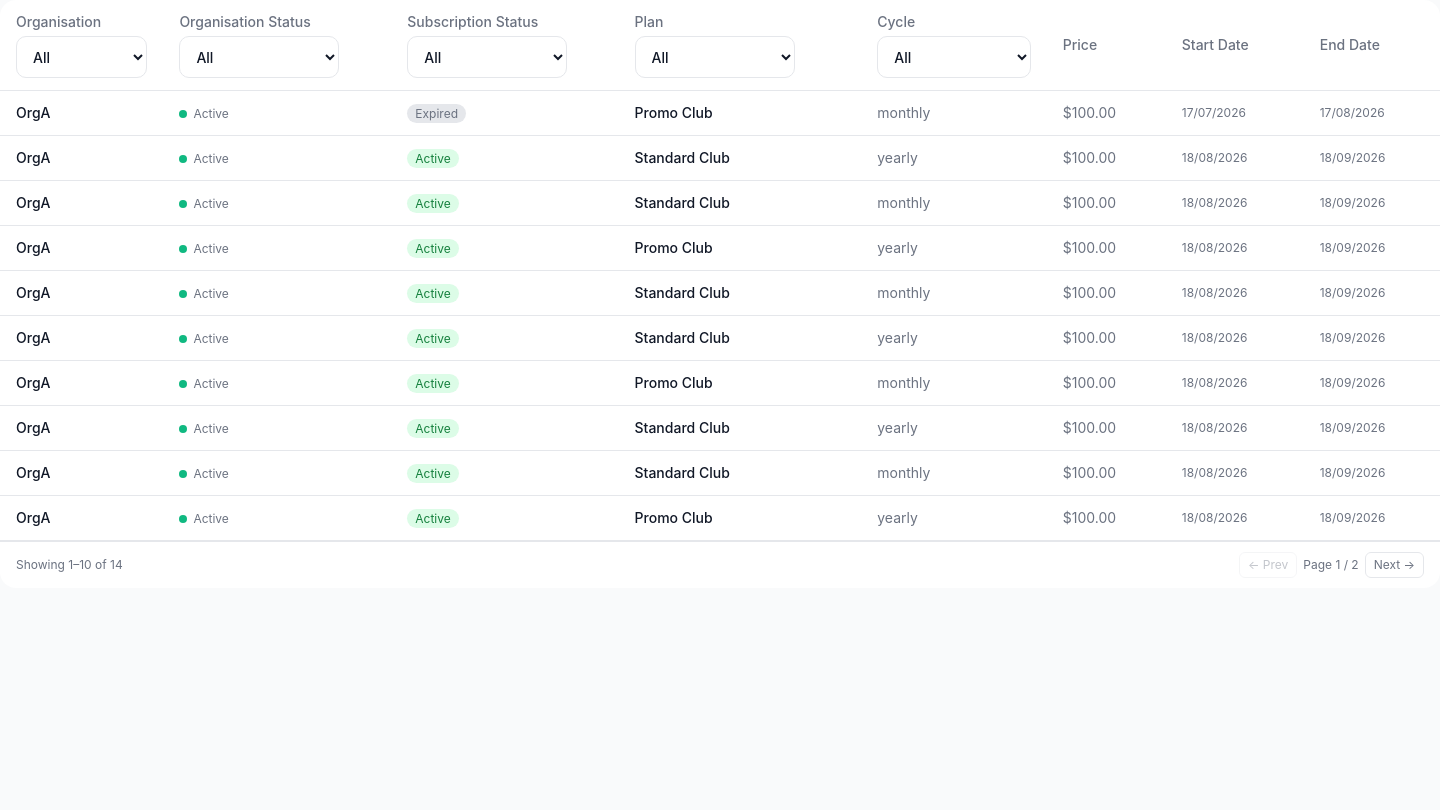
View Assignments — column filters & pagination › resets to page 1 whenever any filter changes
The image size is (1440, 810).
Click the button with aria-label "Next page" at (1394, 565), box [1365,552,1424,578]
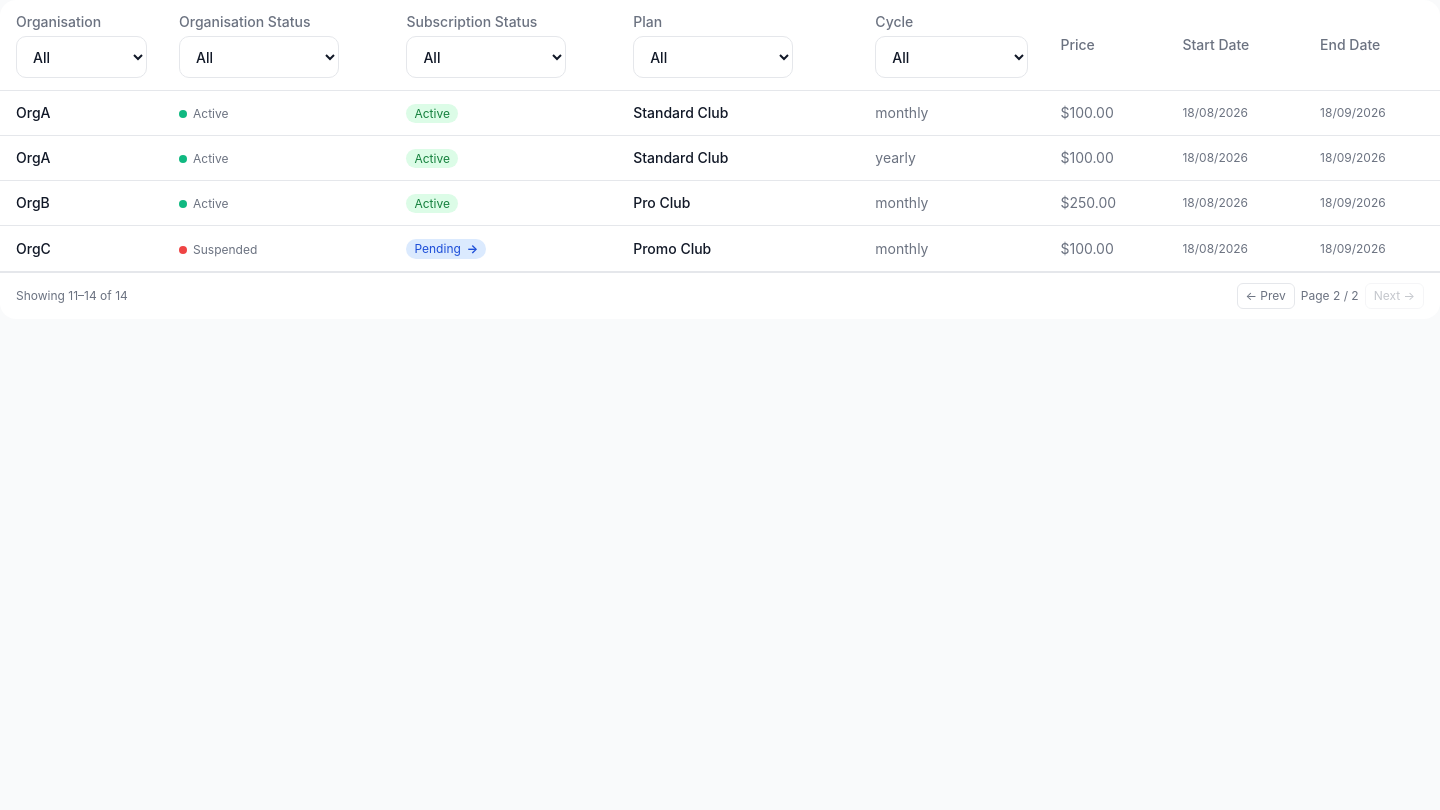
Check: the text "Page 2 / 2" is shown, box [1301,288,1359,304]
Select "OrgA" in the dropdown named "Filter by Organisation" at (82, 57), box [16,36,147,78]
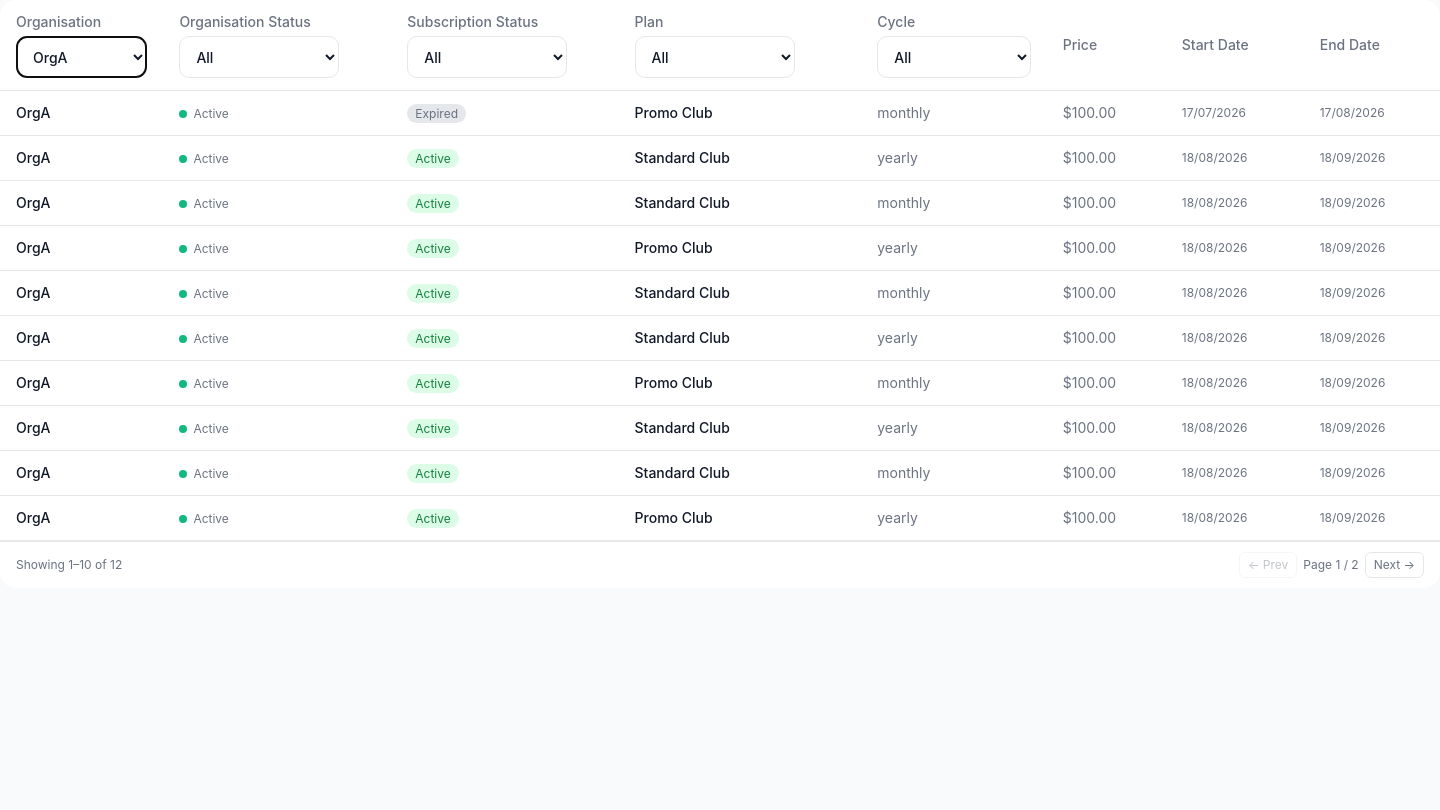
Check: the text "Showing 1–10 of 12" is shown, box [16,557,122,573]
Check: the text "Page 1 / 2" is shown, box [1303,557,1359,573]
Click the button with aria-label "Next page" at (1394, 565), box [1365,552,1424,578]
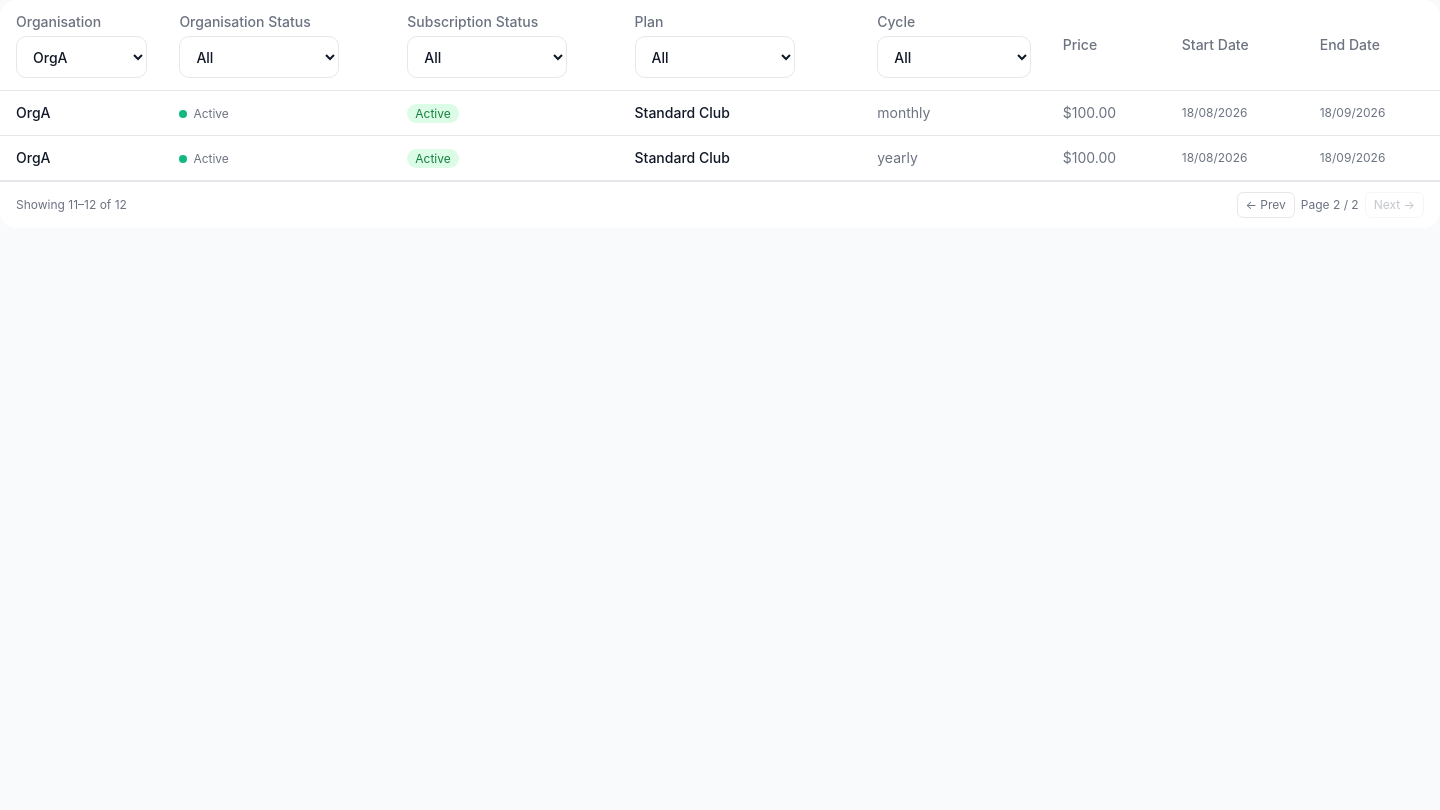
Check: the text "Page 2 / 2" is shown, box [1301,197,1359,213]
Select "Active" in the dropdown named "Filter by Organisation Status" at (259, 57), box [179,36,339,78]
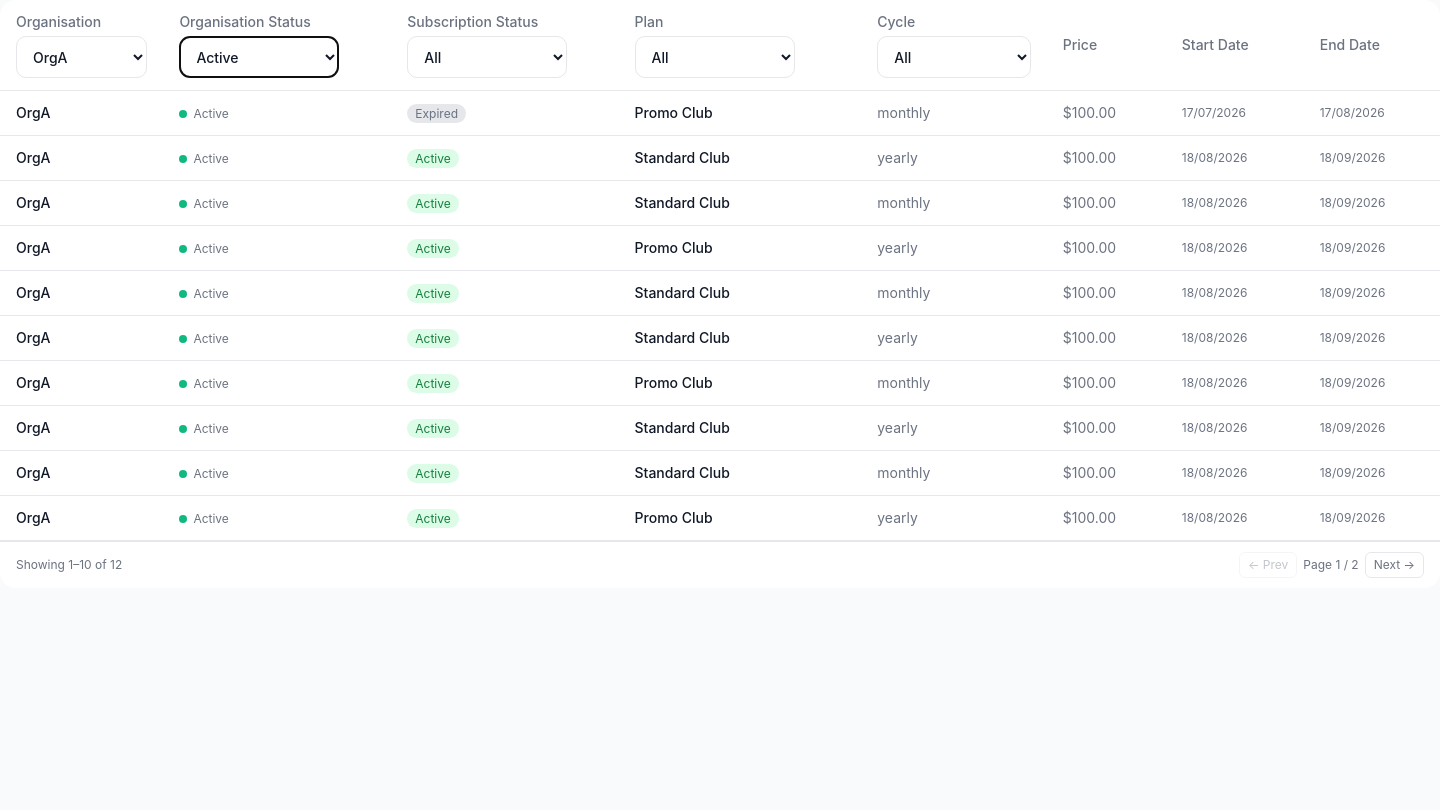
Check: the text "Showing 1–10 of 12" is shown, box [16,557,122,573]
Check: the text "Page 1 / 2" is shown, box [1303,557,1359,573]
